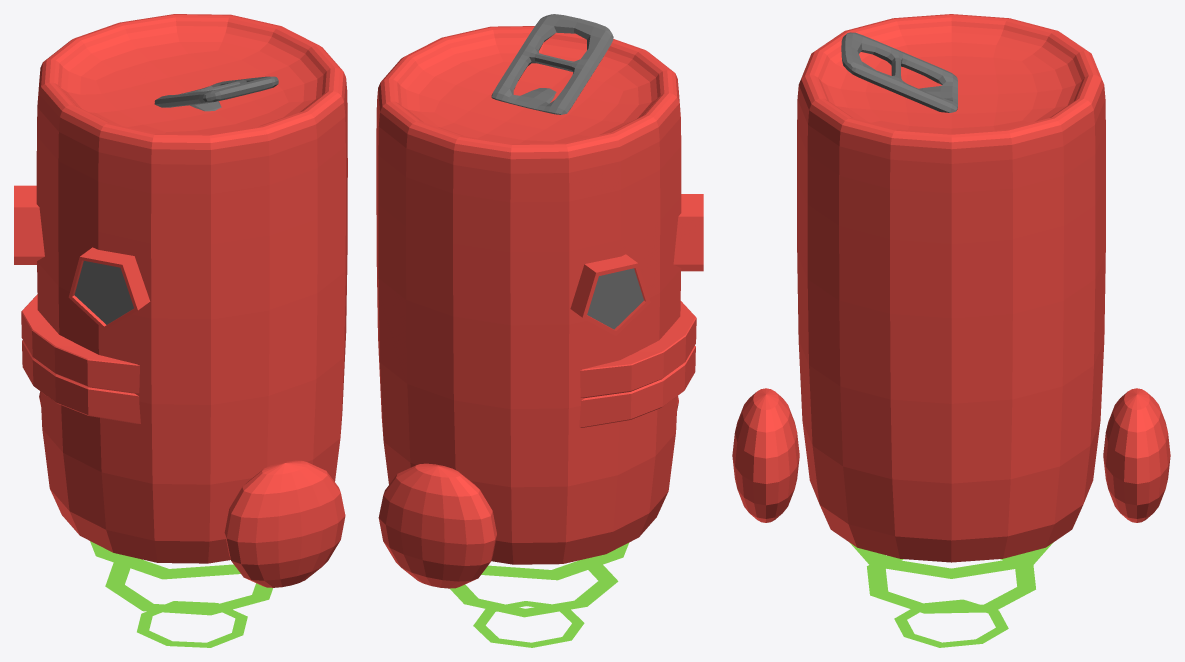
Rendered from WaitTest.fbx.
3 views of the same model, side by side, from view 1: azimuth 30°, elevation 25°; view 2: azimuth 150°, elevation 25°; view 3: azimuth 270°, elevation 25° (orthographic).
Visible parts, largest first — view 1: Cube, Sphere.001, Cube.002, Cylinder, Cube.001, Plane.001, Cylinder.001, Cube.003, Plane, Plane.002; view 2: Cube, Sphere.002, Cube.003, Cube.002, Cylinder.001, Cube.001, Plane.001, Cylinder, Plane, Plane.002; view 3: Cube, Sphere.001, Sphere.002, Cube.003, Plane.001, Plane, Plane.002.
Part boxes in pixels (left/top/right/bottom): Cube: left=36, top=14, right=347, bottom=563; Sphere.001: left=224, top=460, right=345, bottom=587; Cube.002: left=21, top=294, right=139, bottom=393; Cylinder: left=68, top=247, right=150, bottom=330; Cube.001: left=22, top=340, right=140, bottom=423; Plane.001: left=105, top=562, right=272, bottom=615; Cylinder.001: left=14, top=185, right=44, bottom=264; Cube.003: left=154, top=76, right=278, bottom=111; Plane: left=90, top=541, right=240, bottom=579; Plane.002: left=137, top=601, right=247, bottom=647; Cube: left=376, top=26, right=681, bottom=564; Sphere.002: left=378, top=463, right=496, bottom=588; Cube.003: left=491, top=14, right=613, bottom=114; Cube.002: left=580, top=301, right=696, bottom=397; Cylinder.001: left=570, top=254, right=650, bottom=335; Cube.001: left=579, top=346, right=695, bottom=427; Plane.001: left=450, top=564, right=618, bottom=617; Cylinder: left=673, top=194, right=703, bottom=271; Plane: left=481, top=543, right=628, bottom=580; Plane.002: left=473, top=601, right=584, bottom=647; Cube: left=797, top=14, right=1105, bottom=562; Sphere.001: left=732, top=388, right=799, bottom=522; Sphere.002: left=1103, top=388, right=1170, bottom=522; Cube.003: left=841, top=32, right=957, bottom=112; Plane.001: left=867, top=555, right=1035, bottom=613; Plane: left=849, top=542, right=1053, bottom=578; Plane.002: left=894, top=599, right=1008, bottom=647.
Bounding box in the file's own units: 195 × 379 × 260.
